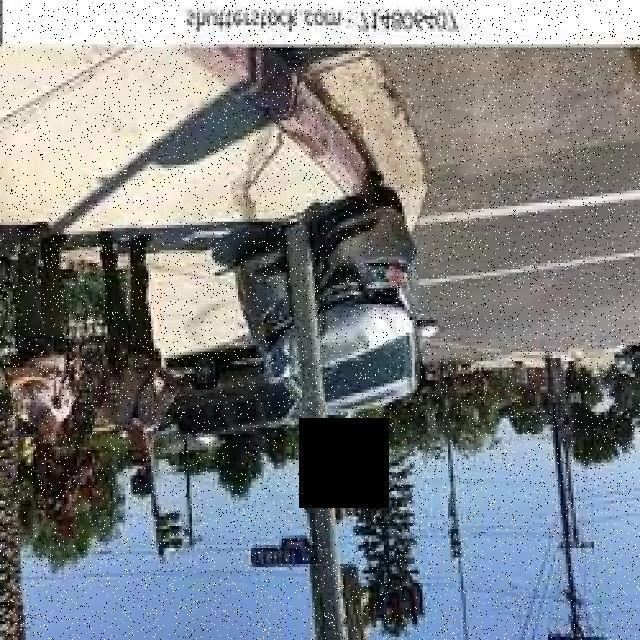vehicle: (204, 205, 443, 428)
